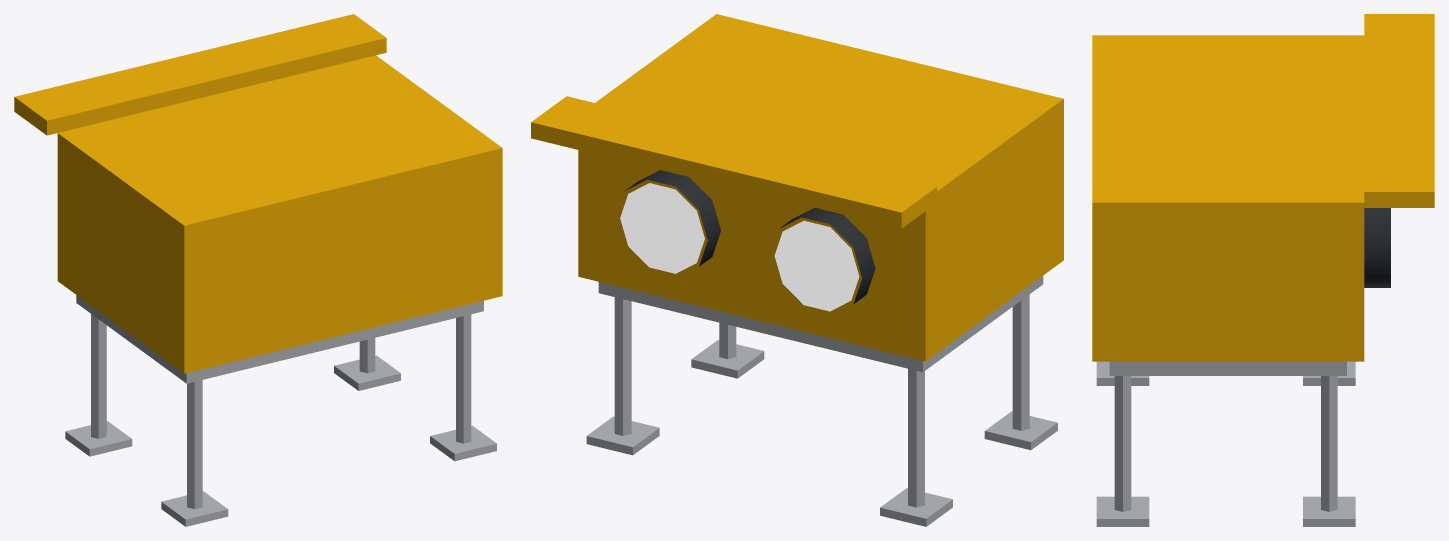
The model's file is papi_unit.glb.
3 views of the same model, side by side, from view 1: azimuth 30°, elevation 25°; view 2: azimuth 150°, elevation 25°; view 3: azimuth 270°, elevation 25° (orthographic). The views are drawn at different scales.
Parts seen in each view (by area): view 1: LOD0; view 2: LOD0; view 3: LOD0.
Part boxes in pixels (bbox=[...]): LOD0: bbox=[14, 14, 502, 526]; LOD0: bbox=[531, 14, 1063, 526]; LOD0: bbox=[1092, 14, 1434, 526].
Bounding box in the file's own units: 0.96 × 0.86 × 0.78.
4 materials, 1 textured.
